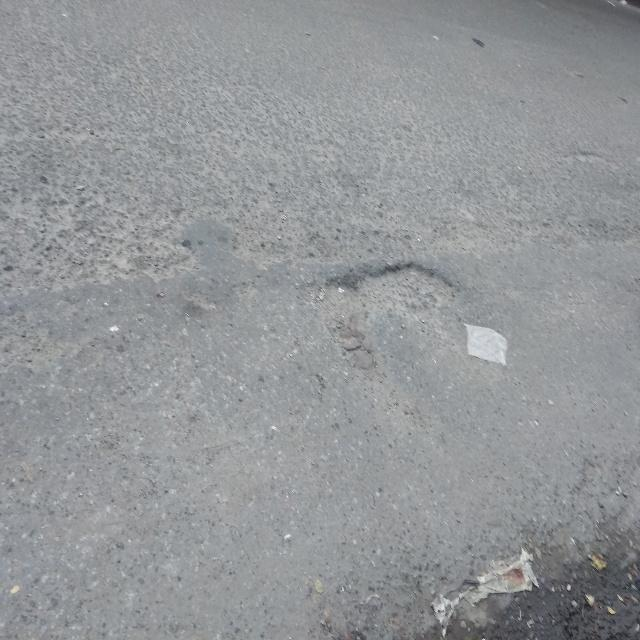Crack: (15, 119, 328, 316)
Pothole: (326, 259, 466, 339)
